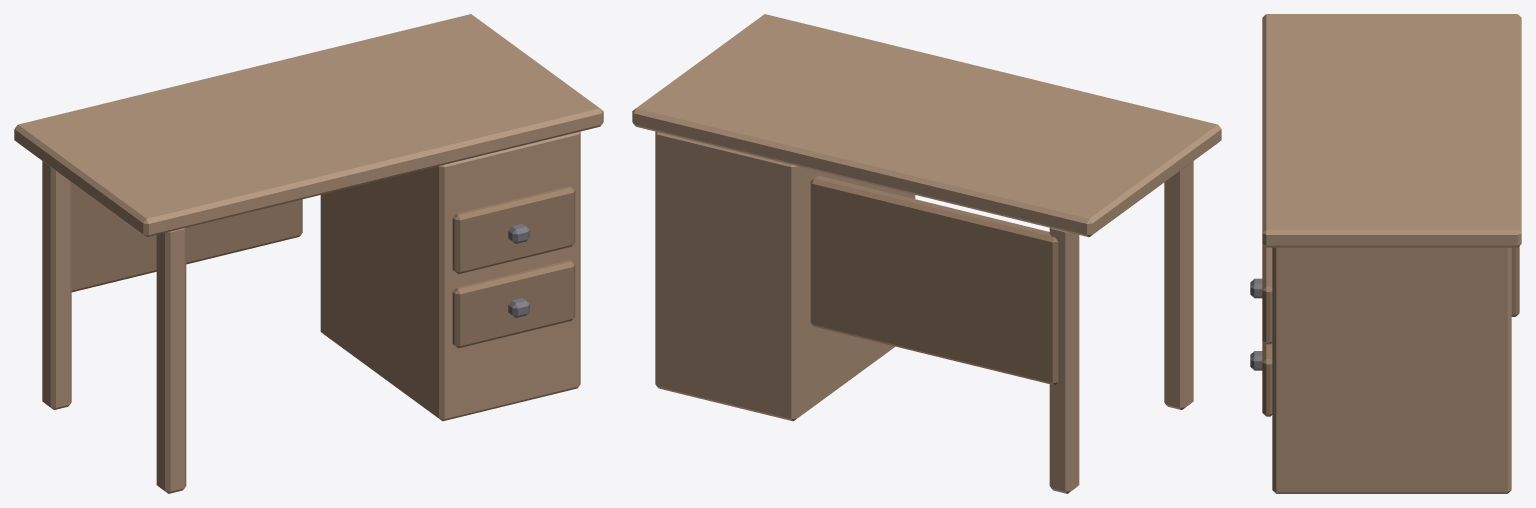
File: SM_Desk.fbx
3 renders of one model, left to right at view 1: azimuth 30°, elevation 25°; view 2: azimuth 150°, elevation 25°; view 3: azimuth 270°, elevation 25°, orthographic. The views are drawn at different scales.
Parts seen in each view (by area): view 1: Desk; view 2: Desk; view 3: Desk.
Part boxes in pixels (x1,y1,x2,y2): Desk: [14, 14, 603, 493]; Desk: [632, 14, 1221, 493]; Desk: [1250, 14, 1521, 493].
Size of the model in its own units: 130 by 76.5 by 68.
